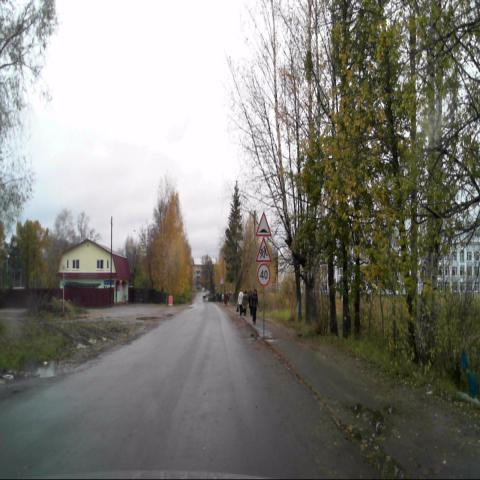1_17: (255, 210, 272, 237)
